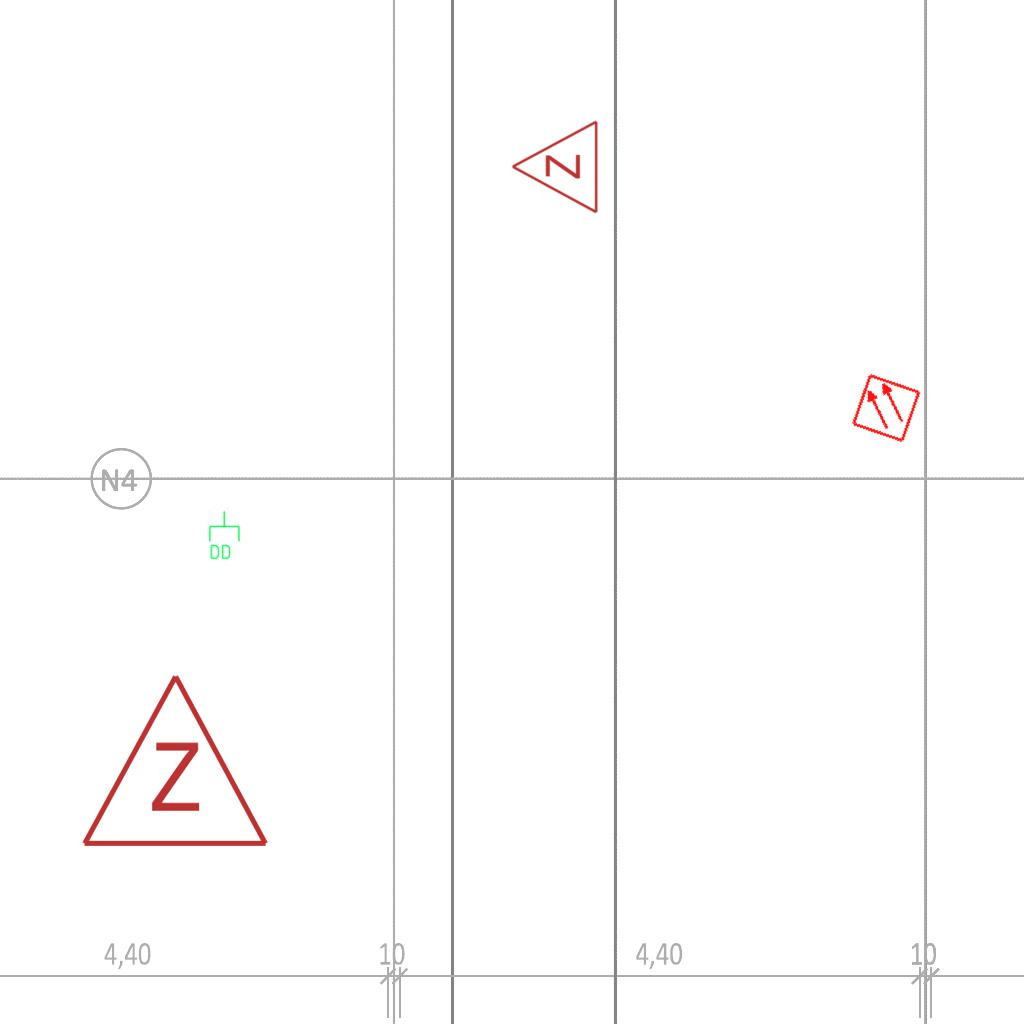Datenanschluss_zweifach: (207, 510, 241, 561)
RMO_Rauchmelder_optischer: (850, 372, 922, 444)
Zimmersignalleuchte: (75, 661, 271, 861), (505, 119, 605, 217)
